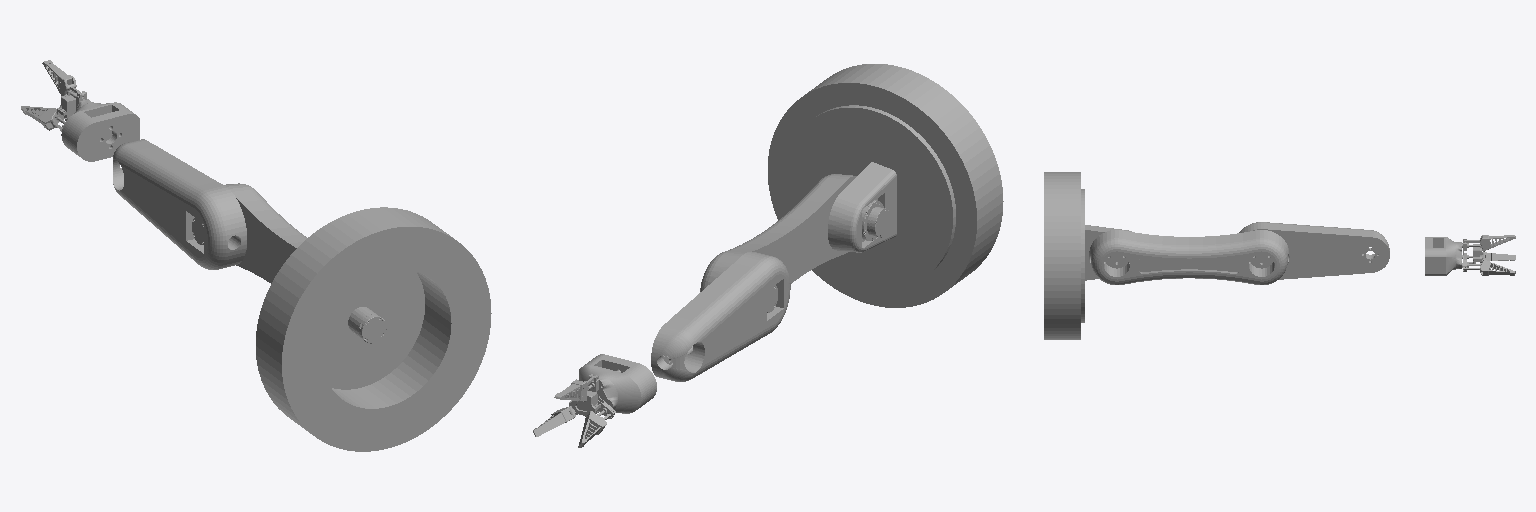
robot.urdf — dum_e_v2_mk16_simscape_tree:
<?xml version='1.0' encoding='utf-8'?>
<robot name="dum_e_v2_mk16_simscape_tree">
  <!--CAD loop closures are restored by the Simscape helper; inertias, when present, are preliminary CAD steel estimates.-->
  <!--Joint effort and velocity limits of 100 are REQUIRED placeholders, not hardware ratings.-->
  <link name="base_link">
    <visual>
      <origin xyz="-0 -0 -0" rpy="0 0 0" />
      <geometry>
        <mesh filename="meshes/base_link.stl" scale="0.001 0.001 0.001" />
      </geometry>
      <material name="fusion_silver">
        <color rgba="0.7 0.7 0.7 1" />
      </material>
    </visual>
    <collision>
      <origin xyz="-0 -0 -0" rpy="0 0 0" />
      <geometry>
        <mesh filename="meshes/base_link.stl" scale="0.001 0.001 0.001" />
      </geometry>
    </collision>
    <inertial>
      <origin xyz="-3.12631139409e-10 0.000265565626242 -2.02059808537e-08" rpy="0 0 0" />
      <mass value="81.744956913" />
      <inertia ixx="1.5585678963" iyy="2.9806283915" izz="1.55856783573" ixy="6.1290455414e-10" ixz="-3.34920718878e-10" iyz="7.94068371096e-09" />
    </inertial>
  </link>
  <link name="gripper_connecting_rod_1_1">
    <visual>
      <origin xyz="0.0372881304684 -1.11192037465 0.0244150635095" rpy="0 0 0" />
      <geometry>
        <mesh filename="meshes/gripper_connecting_rod_1_1.stl" scale="0.001 0.001 0.001" />
      </geometry>
      <material name="fusion_silver">
        <color rgba="0.7 0.7 0.7 1" />
      </material>
    </visual>
    <collision>
      <origin xyz="0.0372881304684 -1.11192037465 0.0244150635095" rpy="0 0 0" />
      <geometry>
        <mesh filename="meshes/gripper_connecting_rod_1_1.stl" scale="0.001 0.001 0.001" />
      </geometry>
    </collision>
    <inertial>
      <origin xyz="-0.000986125715405 0.0217478787942 0.00231741171059" rpy="0 0 0" />
      <mass value="0.0110498967809" />
      <inertia ixx="2.82633862285e-06" iyy="6.13009193828e-08" izz="2.83396846486e-06" ixy="-3.35100071055e-08" ixz="-6.60763758751e-09" iyz="-1.934700152e-08" />
    </inertial>
  </link>
  <link name="gripper_connecting_rod_2_1">
    <visual>
      <origin xyz="0.0025 -1.11192037465 -0.0445" rpy="0 0 0" />
      <geometry>
        <mesh filename="meshes/gripper_connecting_rod_2_1.stl" scale="0.001 0.001 0.001" />
      </geometry>
      <material name="fusion_silver">
        <color rgba="0.7 0.7 0.7 1" />
      </material>
    </visual>
    <collision>
      <origin xyz="0.0025 -1.11192037465 -0.0445" rpy="0 0 0" />
      <geometry>
        <mesh filename="meshes/gripper_connecting_rod_2_1.stl" scale="0.001 0.001 0.001" />
      </geometry>
    </collision>
    <inertial>
      <origin xyz="0.0025 0.0217478757304 -0.0003046965261" rpy="0 0 0" />
      <mass value="0.011051742172" />
      <inertia ixx="2.83880214613e-06" iyy="6.13273859601e-08" izz="2.82352368588e-06" ixy="-5.07292731601e-24" ixz="-3.17057096229e-25" iyz="3.87073470579e-08" />
    </inertial>
  </link>
  <link name="gripper_connecting_rod_3_1">
    <visual>
      <origin xyz="-0.0397881304684 -1.11192037465 0.0200849364905" rpy="0 0 0" />
      <geometry>
        <mesh filename="meshes/gripper_connecting_rod_3_1.stl" scale="0.001 0.001 0.001" />
      </geometry>
      <material name="fusion_silver">
        <color rgba="0.7 0.7 0.7 1" />
      </material>
    </visual>
    <collision>
      <origin xyz="-0.0397881304684 -1.11192037465 0.0200849364905" rpy="0 0 0" />
      <geometry>
        <mesh filename="meshes/gripper_connecting_rod_3_1.stl" scale="0.001 0.001 0.001" />
      </geometry>
    </collision>
    <inertial>
      <origin xyz="-0.0015138742302 0.0217478744665 -0.00201271523537" rpy="0 0 0" />
      <mass value="0.0110499038651" />
      <inertia ixx="2.82634161445e-06" iyy="6.13009418683e-08" izz="2.83397145049e-06" ixy="3.35100080701e-08" ixz="6.60763219046e-09" iyz="-1.93470261944e-08" />
    </inertial>
  </link>
  <link name="gripper_crank_1">
    <visual>
      <origin xyz="0.000754375340287 -1.13690899041 0.0195" rpy="0 0 0" />
      <geometry>
        <mesh filename="meshes/gripper_crank_1.stl" scale="0.001 0.001 0.001" />
      </geometry>
      <material name="fusion_silver">
        <color rgba="0.7 0.7 0.7 1" />
      </material>
    </visual>
    <collision>
      <origin xyz="0.000754375340287 -1.13690899041 0.0195" rpy="0 0 0" />
      <geometry>
        <mesh filename="meshes/gripper_crank_1.stl" scale="0.001 0.001 0.001" />
      </geometry>
    </collision>
    <inertial>
      <origin xyz="0.000355263076748 -0.0117680740621 -0.0025" rpy="0 0 0" />
      <mass value="0.00984055121338" />
      <inertia ixx="1.10703916313e-06" iyy="7.96946295336e-08" izz="1.14573149594e-06" ixy="3.10423422828e-08" ixz="-1.53635438604e-24" iyz="7.75848178521e-25" />
    </inertial>
  </link>
  <link name="gripper_drive_plate_1">
    <visual>
      <origin xyz="-3.30428754663e-14 -1.11192037465 0.0245" rpy="0 0 0" />
      <geometry>
        <mesh filename="meshes/gripper_drive_plate_1.stl" scale="0.001 0.001 0.001" />
      </geometry>
      <material name="fusion_silver">
        <color rgba="0.7 0.7 0.7 1" />
      </material>
    </visual>
    <collision>
      <origin xyz="-3.30428754663e-14 -1.11192037465 0.0245" rpy="0 0 0" />
      <geometry>
        <mesh filename="meshes/gripper_drive_plate_1.stl" scale="0.001 0.001 0.001" />
      </geometry>
    </collision>
    <inertial>
      <origin xyz="-2.02005496616e-11 -3.20140545118e-05 0.0222483871649" rpy="0 0 0" />
      <mass value="0.176371892619" />
      <inertia ixx="8.8061529551e-05" iyy="0.00016394085727" izz="8.1593728268e-05" ixy="4.82231432949e-15" ixz="-5.43854989083e-14" iyz="1.27281128456e-08" />
    </inertial>
  </link>
  <link name="gripper_finger_1_1">
    <visual>
      <origin xyz="0.019918584287 -1.16231413579 0.0115" rpy="0 0 0" />
      <geometry>
        <mesh filename="meshes/gripper_finger_1_1.stl" scale="0.001 0.001 0.001" />
      </geometry>
      <material name="fusion_silver">
        <color rgba="0.7 0.7 0.7 1" />
      </material>
    </visual>
    <collision>
      <origin xyz="0.019918584287 -1.16231413579 0.0115" rpy="0 0 0" />
      <geometry>
        <mesh filename="meshes/gripper_finger_1_1.stl" scale="0.001 0.001 0.001" />
      </geometry>
    </collision>
    <inertial>
      <origin xyz="-0.018116267682 0.0245906830861 -0.0102482984672" rpy="0 0 0" />
      <mass value="0.182586392909" />
      <inertia ixx="0.000131955646949" iyy="3.03397786348e-05" izz="0.000139043692974" ixy="1.9670973217e-05" ixz="-6.14254836311e-06" iyz="1.14328434406e-05" />
    </inertial>
  </link>
  <link name="gripper_finger_2_1">
    <visual>
      <origin xyz="-0.019918584287 -1.16231413579 0.0115" rpy="0 0 0" />
      <geometry>
        <mesh filename="meshes/gripper_finger_2_1.stl" scale="0.001 0.001 0.001" />
      </geometry>
      <material name="fusion_silver">
        <color rgba="0.7 0.7 0.7 1" />
      </material>
    </visual>
    <collision>
      <origin xyz="-0.019918584287 -1.16231413579 0.0115" rpy="0 0 0" />
      <geometry>
        <mesh filename="meshes/gripper_finger_2_1.stl" scale="0.001 0.001 0.001" />
      </geometry>
    </collision>
    <inertial>
      <origin xyz="0.017933420419 0.0245906836396 -0.0105649987399" rpy="0 0 0" />
      <mass value="0.182586387334" />
      <inertia ixx="0.000131952078674" iyy="3.0339776817e-05" izz="0.000139047260738" ixy="-1.973661939e-05" ixz="6.14048741033e-06" iyz="1.13191419515e-05" />
    </inertial>
  </link>
  <link name="gripper_finger_3_1">
    <visual>
      <origin xyz="-4.8105963657e-15 -1.16231413579 -0.023" rpy="0 0 0" />
      <geometry>
        <mesh filename="meshes/gripper_finger_3_1.stl" scale="0.001 0.001 0.001" />
      </geometry>
      <material name="fusion_silver">
        <color rgba="0.7 0.7 0.7 1" />
      </material>
    </visual>
    <collision>
      <origin xyz="-4.8105963657e-15 -1.16231413579 -0.023" rpy="0 0 0" />
      <geometry>
        <mesh filename="meshes/gripper_finger_3_1.stl" scale="0.001 0.001 0.001" />
      </geometry>
    </collision>
    <inertial>
      <origin xyz="0.000182906923964 0.0245898892916 0.0208127204474" rpy="0 0 0" />
      <mass value="0.182590618788" />
      <inertia ixx="0.000142598793098" iyy="3.03427475581e-05" izz="0.00012841297467" ixy="6.57673314651e-08" ixz="2.0724192966e-09" iyz="-2.27548790215e-05" />
    </inertial>
  </link>
  <link name="gripper_servo_horn_1">
    <visual>
      <origin xyz="0.0105 -1.14301413579 0.018" rpy="0 0 0" />
      <geometry>
        <mesh filename="meshes/gripper_servo_horn_1.stl" scale="0.001 0.001 0.001" />
      </geometry>
      <material name="fusion_silver">
        <color rgba="0.7 0.7 0.7 1" />
      </material>
    </visual>
    <collision>
      <origin xyz="0.0105 -1.14301413579 0.018" rpy="0 0 0" />
      <geometry>
        <mesh filename="meshes/gripper_servo_horn_1.stl" scale="0.001 0.001 0.001" />
      </geometry>
    </collision>
    <inertial>
      <origin xyz="0.00219293898043 -0.00137375972489 0.0015" rpy="0 0 0" />
      <mass value="0.0104776361233" />
      <inertia ixx="2.24945357568e-07" iyy="3.22742696665e-07" izz="4.84822237493e-07" ixy="1.00837512452e-07" ixz="-6.25009234593e-25" iyz="-3.32995909495e-25" />
    </inertial>
  </link>
  <link name="l0_1">
    <visual>
      <origin xyz="1.92306309765e-18 -0.05 -1.58632868646e-16" rpy="0 0 0" />
      <geometry>
        <mesh filename="meshes/l0_1.stl" scale="0.001 0.001 0.001" />
      </geometry>
      <material name="fusion_silver">
        <color rgba="0.7 0.7 0.7 1" />
      </material>
    </visual>
    <collision>
      <origin xyz="1.92306309765e-18 -0.05 -1.58632868646e-16" rpy="0 0 0" />
      <geometry>
        <mesh filename="meshes/l0_1.stl" scale="0.001 0.001 0.001" />
      </geometry>
    </collision>
    <inertial>
      <origin xyz="-0.0132937277788 0.037276056521 -0.000297035930008" rpy="0 0 0" />
      <mass value="16.4702002806" />
      <inertia ixx="0.131159711107" iyy="0.180283630776" izz="0.127048781108" ixy="0.00955583689418" ixz="-9.20521379008e-05" iyz="0.000244376637564" />
    </inertial>
  </link>
  <link name="l1_1">
    <visual>
      <origin xyz="0.005740525 -0.1499999455 -3.71591125096e-16" rpy="0 0 0" />
      <geometry>
        <mesh filename="meshes/l1_1.stl" scale="0.001 0.001 0.001" />
      </geometry>
      <material name="fusion_silver">
        <color rgba="0.7 0.7 0.7 1" />
      </material>
    </visual>
    <collision>
      <origin xyz="0.005740525 -0.1499999455 -3.71591125096e-16" rpy="0 0 0" />
      <geometry>
        <mesh filename="meshes/l1_1.stl" scale="0.001 0.001 0.001" />
      </geometry>
    </collision>
    <inertial>
      <origin xyz="0.0294215115373 0.199999736684 3.44752927123e-07" rpy="0 0 0" />
      <mass value="25.3198034266" />
      <inertia ixx="0.644161451848" iyy="0.0460505580275" izz="0.616130232399" ixy="-9.63539635117e-09" ixz="8.00335661192e-08" iyz="-3.35509458289e-07" />
    </inertial>
  </link>
  <link name="l2_1">
    <visual>
      <origin xyz="0.005740525 -0.5499995455 -1.14130889184e-15" rpy="0 0 0" />
      <geometry>
        <mesh filename="meshes/l2_1.stl" scale="0.001 0.001 0.001" />
      </geometry>
      <material name="fusion_silver">
        <color rgba="0.7 0.7 0.7 1" />
      </material>
    </visual>
    <collision>
      <origin xyz="0.005740525 -0.5499995455 -1.14130889184e-15" rpy="0 0 0" />
      <geometry>
        <mesh filename="meshes/l2_1.stl" scale="0.001 0.001 0.001" />
      </geometry>
    </collision>
    <inertial>
      <origin xyz="-0.03268395085 0.118668523352 -3.81374385323e-06" rpy="0 0 0" />
      <mass value="23.8596230594" />
      <inertia ixx="0.322878637574" iyy="0.0484077968057" izz="0.293422126553" ixy="-0.000561831484812" ixz="1.43039562358e-07" iyz="7.08266614863e-06" />
    </inertial>
  </link>
  <link name="l3_pitch_1">
    <visual>
      <origin xyz="0.005740525 -0.8499995455 -1.43489387039e-15" rpy="0 0 0" />
      <geometry>
        <mesh filename="meshes/l3_pitch_1.stl" scale="0.001 0.001 0.001" />
      </geometry>
      <material name="fusion_silver">
        <color rgba="0.7 0.7 0.7 1" />
      </material>
    </visual>
    <collision>
      <origin xyz="0.005740525 -0.8499995455 -1.43489387039e-15" rpy="0 0 0" />
      <geometry>
        <mesh filename="meshes/l3_pitch_1.stl" scale="0.001 0.001 0.001" />
      </geometry>
    </collision>
    <inertial>
      <origin xyz="0.0178472862838 0.0595600050089 -0.00158523318383" rpy="0 0 0" />
      <mass value="10.8582818467" />
      <inertia ixx="0.0453221586795" iyy="0.0197756808685" izz="0.0500844380009" ixy="0.00687352495561" ixz="-1.1161229203e-05" iyz="-0.000119329721506" />
    </inertial>
  </link>
  <link name="l3_roll_1">
    <visual>
      <origin xyz="5.77315972805e-17 -1.00049075945 -5.13478148889e-18" rpy="0 0 0" />
      <geometry>
        <mesh filename="meshes/l3_roll_1.stl" scale="0.001 0.001 0.001" />
      </geometry>
      <material name="fusion_silver">
        <color rgba="0.7 0.7 0.7 1" />
      </material>
    </visual>
    <collision>
      <origin xyz="5.77315972805e-17 -1.00049075945 -5.13478148889e-18" rpy="0 0 0" />
      <geometry>
        <mesh filename="meshes/l3_roll_1.stl" scale="0.001 0.001 0.001" />
      </geometry>
    </collision>
    <inertial>
      <origin xyz="-0.00353417115798 0.0512196248322 -0.000197780967304" rpy="0 0 0" />
      <mass value="5.4382000254" />
      <inertia ixx="0.0100137422851" iyy="0.0102290204185" izz="0.015273547065" ixy="-0.000281543771747" ixz="-0.000116919612842" iyz="-0.000317484511834" />
    </inertial>
  </link>
  <joint name="base_yaw_joint" type="continuous">
    <parent link="base_link" />
    <child link="l0_1" />
    <origin xyz="-1.92306309765e-18 0.05 1.58632868646e-16" rpy="0 0 0" />
    <axis xyz="1.38777878078e-17 -1 -1.11022302463e-15" />
  </joint>
  <joint name="shoulder_pitch_joint" type="revolute">
    <parent link="l0_1" />
    <child link="l1_1" />
    <origin xyz="-0.005740525 0.0999999455 2.12958256449e-16" rpy="0 0 0" />
    <axis xyz="-1 0 5.55111512313e-17" />
    <limit lower="-1.57079632679" upper="1.57079632679" effort="100" velocity="100" />
  </joint>
  <joint name="elbow_pitch_joint" type="revolute">
    <parent link="l1_1" />
    <child link="l2_1" />
    <origin xyz="5.80265002714e-16 0.3999996 7.69717766743e-16" rpy="0 0 0" />
    <axis xyz="-1 0 8.09781225932e-17" />
    <limit lower="-2.61799387799" upper="2.61799387799" effort="100" velocity="100" />
  </joint>
  <joint name="wrist_pitch_joint" type="revolute">
    <parent link="l2_1" />
    <child link="l3_pitch_1" />
    <origin xyz="3.30464822174e-16 0.3 2.9358497855e-16" rpy="0 0 0" />
    <axis xyz="-1 0 0" />
    <limit lower="-2.09439510239" upper="2.09439510239" effort="100" velocity="100" />
  </joint>
  <joint name="wrist_roll_joint" type="continuous">
    <parent link="l3_pitch_1" />
    <child link="l3_roll_1" />
    <origin xyz="0.005740525 0.150491213952 -1.4297590889e-15" rpy="0 0 0" />
    <axis xyz="-9.64939933512e-16 1 4.12170297892e-15" />
  </joint>
  <joint name="gripper_servo_pivot_joint" type="revolute">
    <parent link="l3_roll_1" />
    <child link="gripper_servo_horn_1" />
    <origin xyz="-0.0105 0.142523376333 -0.018" rpy="0 0 0" />
    <axis xyz="8.67361737989e-17 6.648434312e-16 1" />
    <limit lower="-2.09439510239" upper="1.1344640138" effort="100" velocity="100" />
  </joint>
  <joint name="gripper_horn_crank_joint" type="continuous">
    <parent link="gripper_servo_horn_1" />
    <child link="gripper_crank_1" />
    <origin xyz="0.00974562465971 -0.00610514537029 -0.0015" rpy="0 0 0" />
    <axis xyz="5.55130418062e-17 6.84324103364e-19 1" />
  </joint>
  <joint name="gripper_crank_drive_joint" type="continuous">
    <parent link="gripper_crank_1" />
    <child link="gripper_drive_plate_1" />
    <origin xyz="0.00075437534032 -0.0249886157649 -0.005" rpy="0 0 0" />
    <axis xyz="-1.2413748922e-14 -1.42108547152e-14 1" />
  </joint>
  <joint name="gripper_drive_rod_1_joint" type="continuous">
    <parent link="gripper_drive_plate_1" />
    <child link="gripper_connecting_rod_1_1" />
    <origin xyz="-0.0372881304684 1.1768364061e-14 8.49364905359e-05" rpy="0 0 0" />
    <axis xyz="0.5 -4.26325641456e-14 -0.866025403784" />
  </joint>
  <joint name="gripper_drive_rod_2_joint" type="continuous">
    <parent link="gripper_drive_plate_1" />
    <child link="gripper_connecting_rod_2_1" />
    <origin xyz="-0.00250000000003 -1.64313007645e-14 0.069" rpy="0 0 0" />
    <axis xyz="1 -1.13686837722e-13 7.9936057773e-15" />
  </joint>
  <joint name="gripper_drive_rod_3_joint" type="continuous">
    <parent link="gripper_drive_plate_1" />
    <child link="gripper_connecting_rod_3_1" />
    <origin xyz="0.0397881304684 -1.11022302463e-15 0.00441506350947" rpy="0 0 0" />
    <axis xyz="-0.5 5.68434188608e-14 -0.866025403784" />
  </joint>
  <joint name="gripper_finger_1_pivot_joint" type="continuous">
    <parent link="l3_roll_1" />
    <child link="gripper_finger_1_1" />
    <origin xyz="-0.019918584287 0.161823376333 -0.0115" rpy="0 0 0" />
    <axis xyz="0.5 -5.3290705182e-14 -0.866025403784" />
  </joint>
  <joint name="gripper_finger_2_pivot_joint" type="continuous">
    <parent link="l3_roll_1" />
    <child link="gripper_finger_2_1" />
    <origin xyz="0.019918584287 0.161823376333 -0.0115" rpy="0 0 0" />
    <axis xyz="-0.5 4.0226700861e-14 -0.866025403784" />
  </joint>
  <joint name="gripper_finger_3_pivot_joint" type="continuous">
    <parent link="l3_roll_1" />
    <child link="gripper_finger_3_1" />
    <origin xyz="4.86832796298e-15 0.161823376333 0.023" rpy="0 0 0" />
    <axis xyz="1 -1.06581410364e-13 0" />
  </joint>
</robot>

--- What the picture shows (computed from the rendered views, not written in the file) ---
3 views of the same robot in one strip: view 1: azimuth 30°, elevation 25°; view 2: azimuth 150°, elevation 25°; view 3: azimuth 270°, elevation 25° (orthographic).
Robot: dum_e_v2_mk16_simscape_tree — 15 links, 14 joints (4 revolute, 10 continuous); root link base_link; default pose: all joints at 0.
Visible links, largest first — view 1: base_link, l2_1, l0_1, l3_roll_1, l1_1, gripper_finger_3_1, gripper_finger_1_1; view 2: l0_1, base_link, l2_1, l1_1, l3_roll_1; view 3: l1_1, base_link, l2_1, l3_roll_1, l0_1.
Boxes of the visible links, x1,y1,x2,y2 form: base_link: (256, 207, 491, 451); l2_1: (113, 139, 246, 269); l0_1: (322, 270, 424, 389); l3_roll_1: (55, 90, 139, 161); l1_1: (224, 183, 306, 283); gripper_finger_3_1: (42, 60, 76, 95); gripper_finger_1_1: (21, 106, 59, 130); l0_1: (785, 105, 955, 287); base_link: (768, 64, 1003, 307); l2_1: (651, 251, 790, 381); l1_1: (700, 174, 856, 291); l3_roll_1: (569, 354, 656, 417); l1_1: (1089, 230, 1289, 284); base_link: (1044, 172, 1080, 339); l2_1: (1239, 222, 1389, 279); l3_roll_1: (1425, 237, 1484, 275); l0_1: (1081, 189, 1131, 322).
Bounding box of the posed robot: 0.4617 × 1.3 × 0.4613 m (x, y, z).
14 mesh visuals loaded from 15 distinct referenced files (14 binary STL); not drawn: 1 (reference not matched to a file when rendering).
